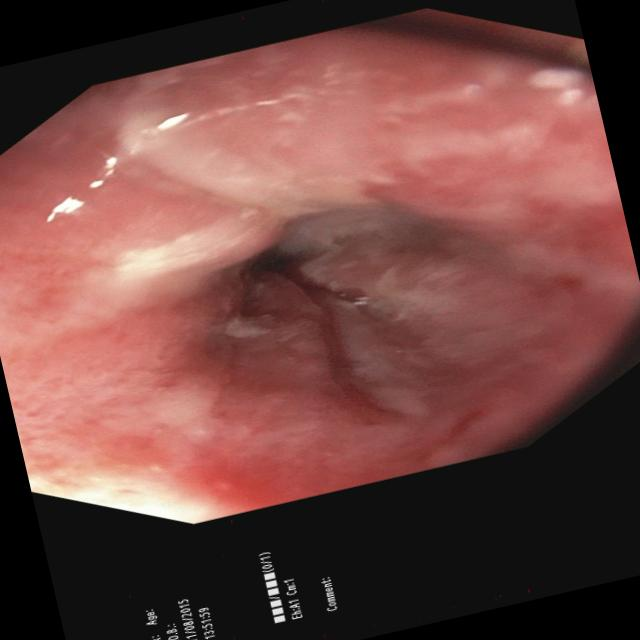esophagitis: (64, 357, 506, 510), (369, 74, 640, 322)
